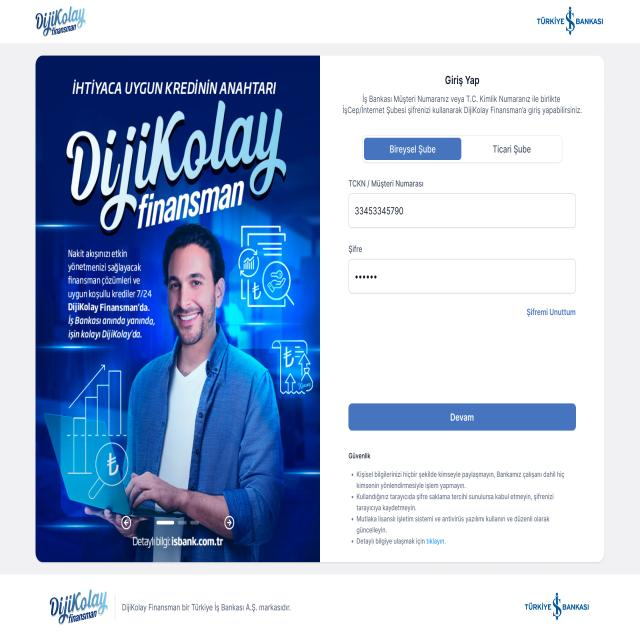QLabel: (338, 91, 587, 118), (349, 492, 565, 513), (350, 469, 566, 490), (350, 515, 565, 535), (120, 597, 293, 616), (346, 178, 429, 189), (349, 537, 425, 548), (441, 71, 483, 88), (387, 142, 437, 156), (489, 143, 534, 156), (446, 408, 476, 426), (346, 448, 374, 462), (346, 244, 367, 254)
VAppBar: (1, 0, 640, 45)
VBtn: (349, 403, 575, 432), (524, 304, 578, 319), (426, 537, 449, 548)
VCard: (36, 56, 604, 563)
VCarousel: (38, 59, 318, 558)
VDivider: (114, 594, 116, 620)
VFooter: (1, 575, 640, 640)
VImg: (519, 586, 599, 626), (45, 583, 111, 626), (531, 4, 609, 39), (32, 4, 90, 38)
VTab: (362, 136, 468, 162), (472, 136, 561, 160)
VTabs: (359, 135, 565, 165)
VTextField: (347, 257, 578, 296), (348, 192, 577, 230)
